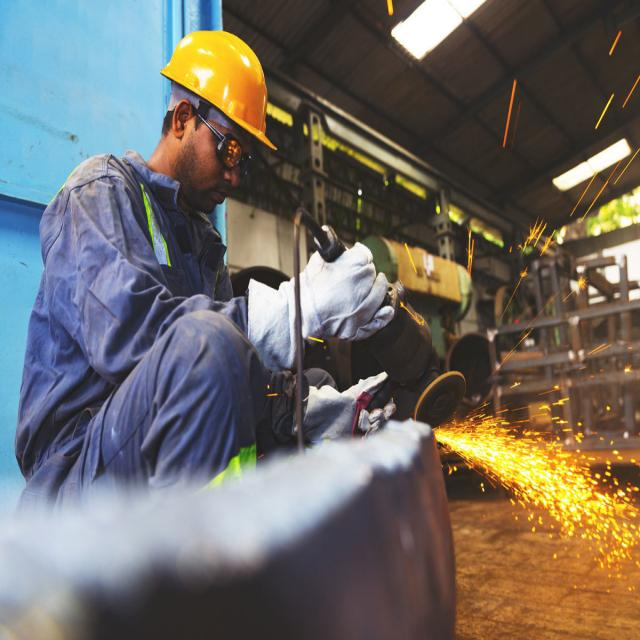Safety-Helmet: (158, 27, 274, 148)
